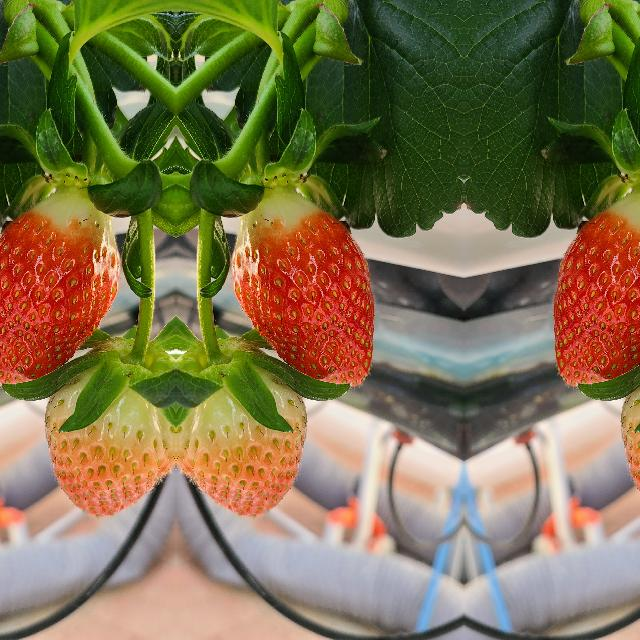Health_100: (229, 190, 375, 388), (0, 190, 121, 388), (551, 190, 640, 388)
Health_75: (176, 339, 304, 517), (46, 339, 174, 517)
